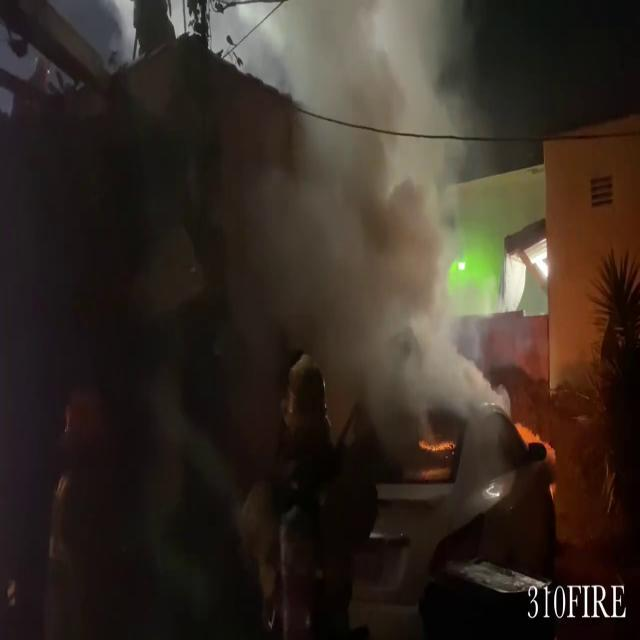Smoke: (242, 1, 490, 437)
